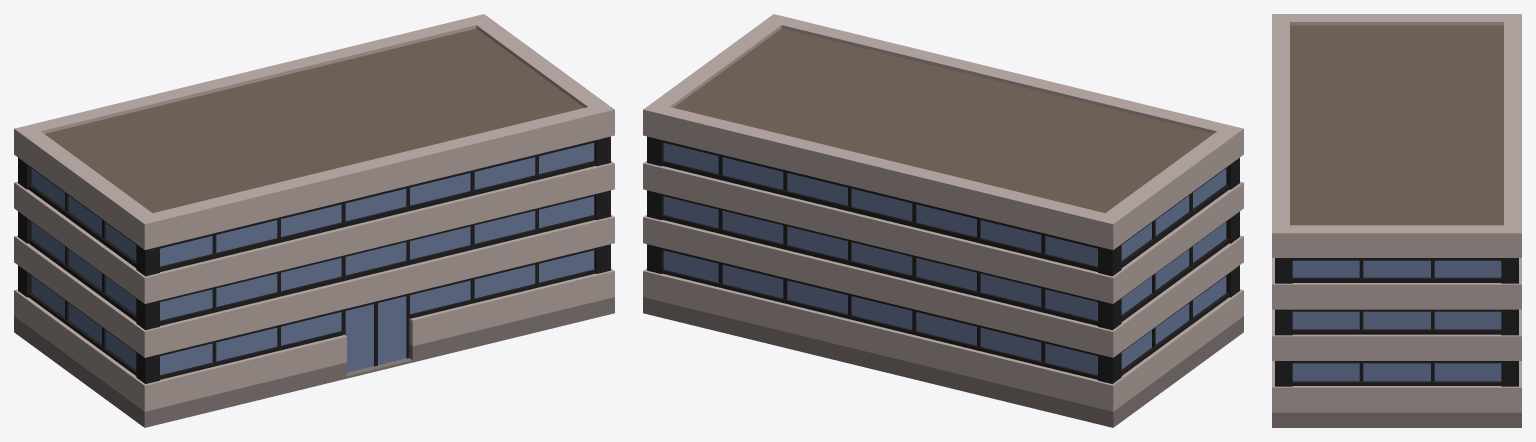
File: LargeBuilding_11.fbx
The picture shows the model from 3 angles, left to right: view 1: azimuth 30°, elevation 25°; view 2: azimuth 150°, elevation 25°; view 3: azimuth 270°, elevation 25°; orthographic projection. The views are drawn at different scales.
Visible parts, largest first — view 1: LargeBuilding_11; view 2: LargeBuilding_11; view 3: LargeBuilding_11.
Boxes of the visible parts, x1,y1,x2,y2 form: LargeBuilding_11: (14,14,614,427); LargeBuilding_11: (643,14,1243,427); LargeBuilding_11: (1272,14,1521,427).
Size of the model in its own units: 29.57 by 12.24 by 14.23.
